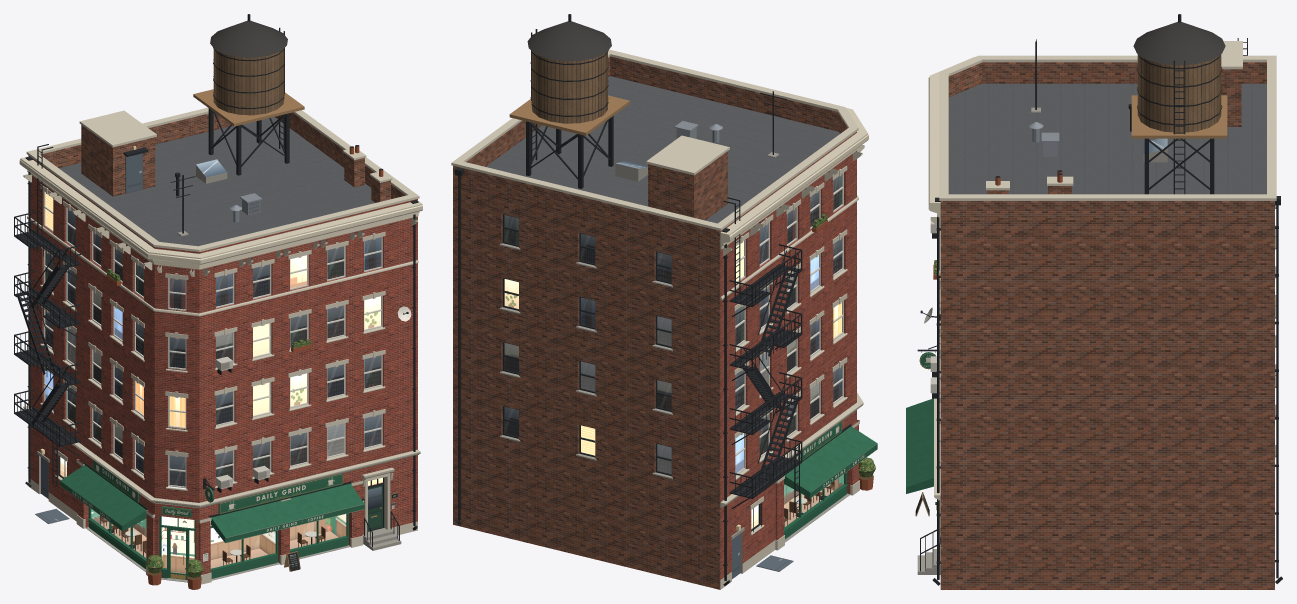
The model's file is CornerCafe.fbx.
3 views of the same model, side by side, from view 1: azimuth 30°, elevation 25°; view 2: azimuth 150°, elevation 25°; view 3: azimuth 270°, elevation 25° (orthographic). The views are drawn at different scales.
Parts seen in each view (by area): view 1: CornerCafe_Mesh; view 2: CornerCafe_Mesh; view 3: CornerCafe_Mesh.
Part boxes in pixels (left/top/right/bottom): CornerCafe_Mesh: left=14, top=14, right=422, bottom=589; CornerCafe_Mesh: left=451, top=14, right=877, bottom=589; CornerCafe_Mesh: left=906, top=14, right=1282, bottom=589.
Bounding box in the file's own units: 15.51 × 24.8 × 15.78.
